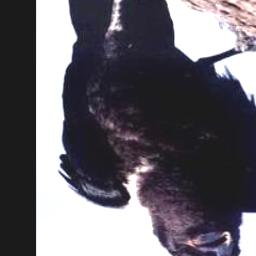Crow: (54, 0, 256, 256)
